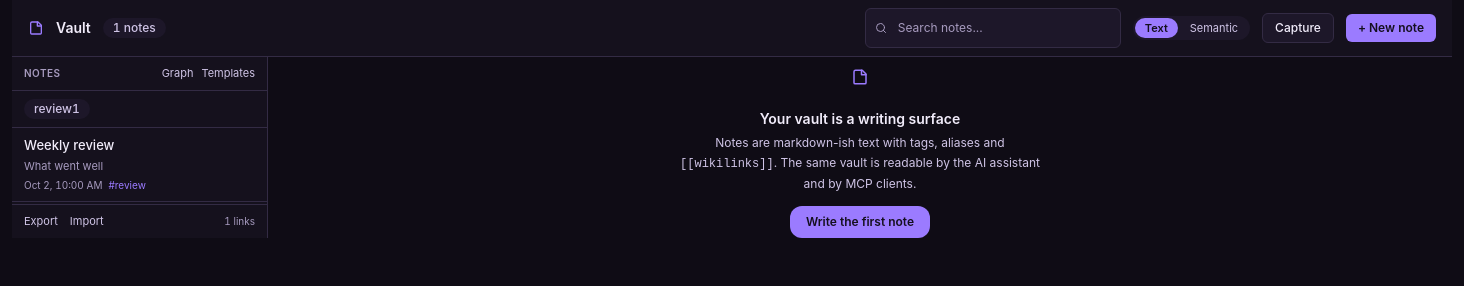
Test: VaultExplorer › lists notes and opens one in the editor
Click the text "Weekly review": [69, 145] box 24,136 -> 114,155
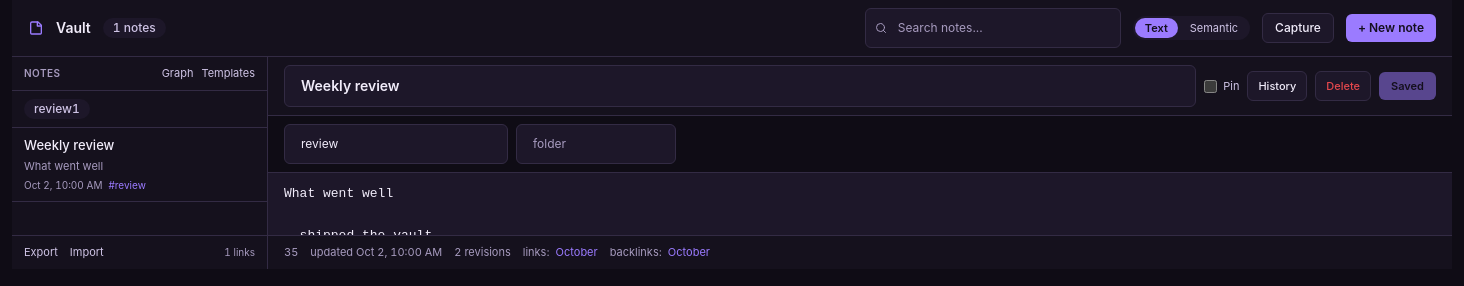
Now the field named "Note title" holds "Weekly review", box 284,65 -> 1196,107
Now the 1st button "October" is shown, box 556,244 -> 598,261
